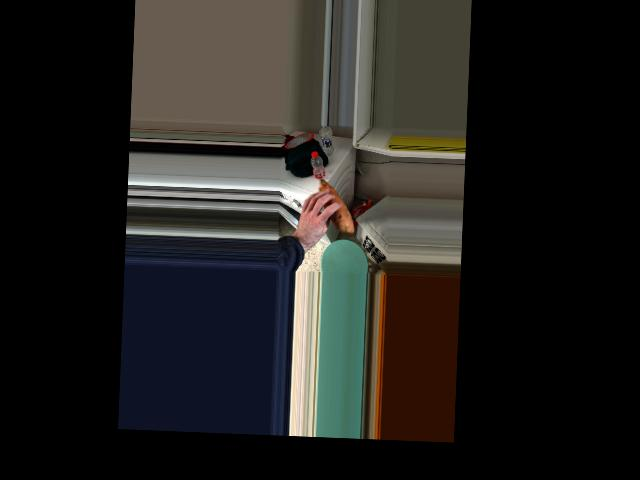sweet_potato: (310, 180, 355, 226)
